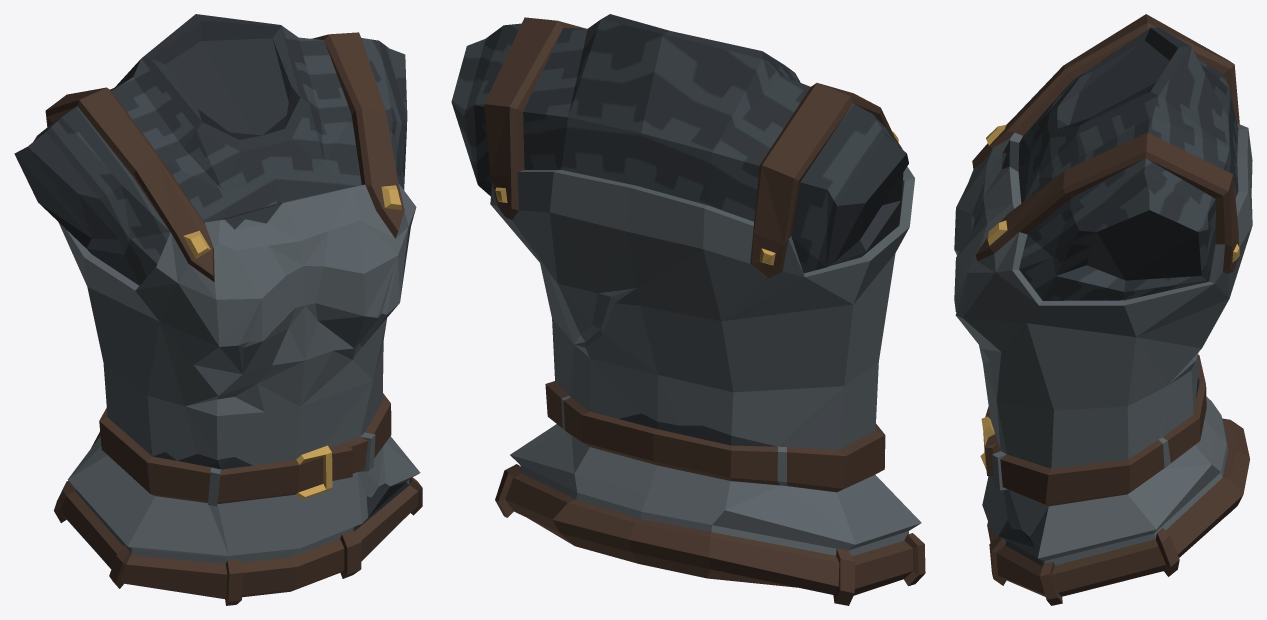
File: Chr_Torso_Female_17_Static.fbx
3 views of the same model, side by side, from view 1: azimuth 30°, elevation 25°; view 2: azimuth 150°, elevation 25°; view 3: azimuth 270°, elevation 25° (orthographic). The views are drawn at different scales.
Parts seen in each view (by area): view 1: Chr_Torso_Female_17_Static; view 2: Chr_Torso_Female_17_Static; view 3: Chr_Torso_Female_17_Static.
Boxes of the visible parts, <box> form: Chr_Torso_Female_17_Static: <box>14,14,422,605</box>; Chr_Torso_Female_17_Static: <box>451,14,925,605</box>; Chr_Torso_Female_17_Static: <box>954,14,1252,605</box>.
Size of the model in its own units: 0.5172 by 0.6714 by 0.3531.
